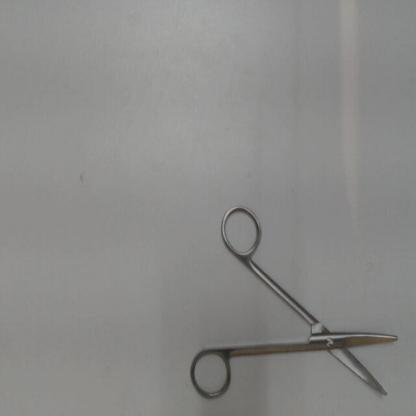Curved Mayo Scissors: (186, 196, 404, 408)
